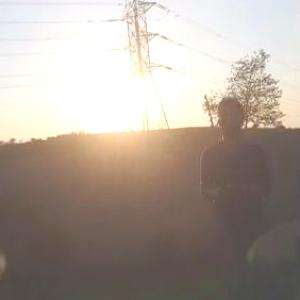follow: (197, 88, 282, 299)
